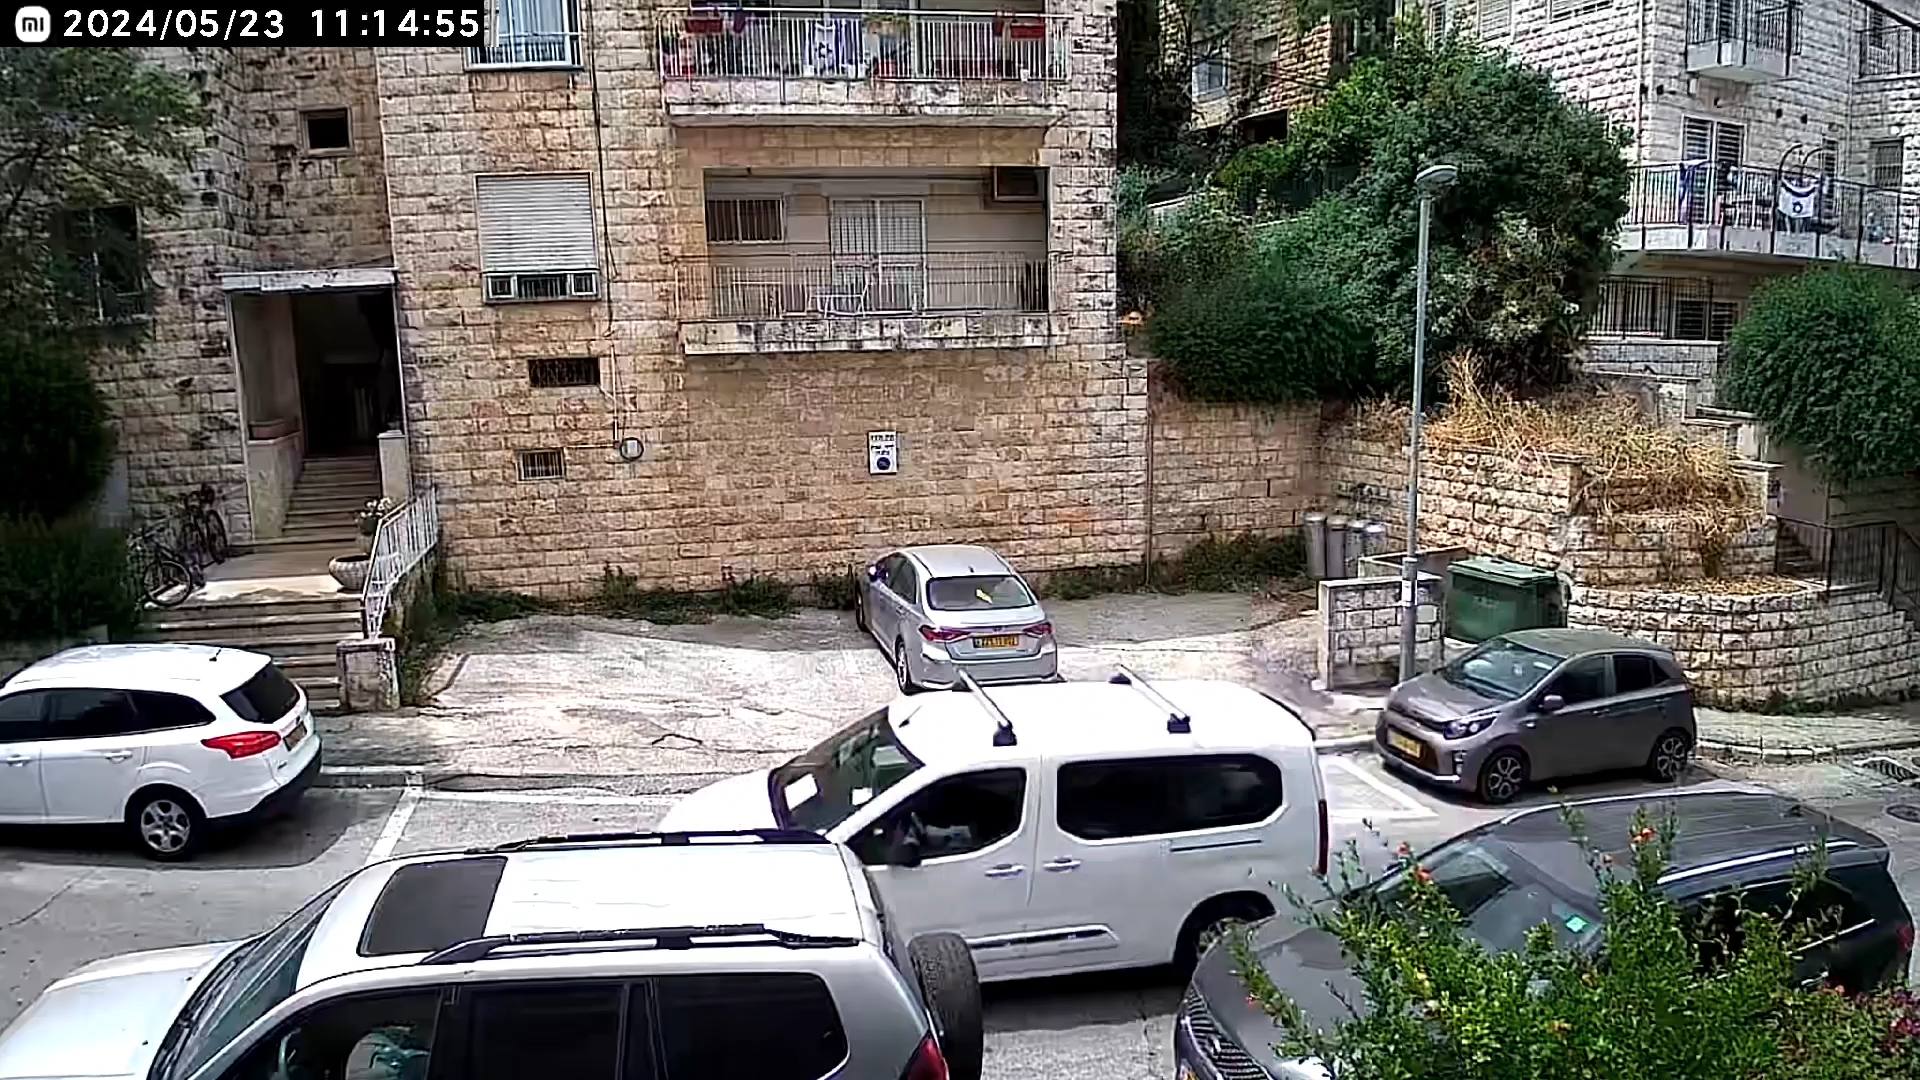moving car: (647, 684, 1332, 1013)
